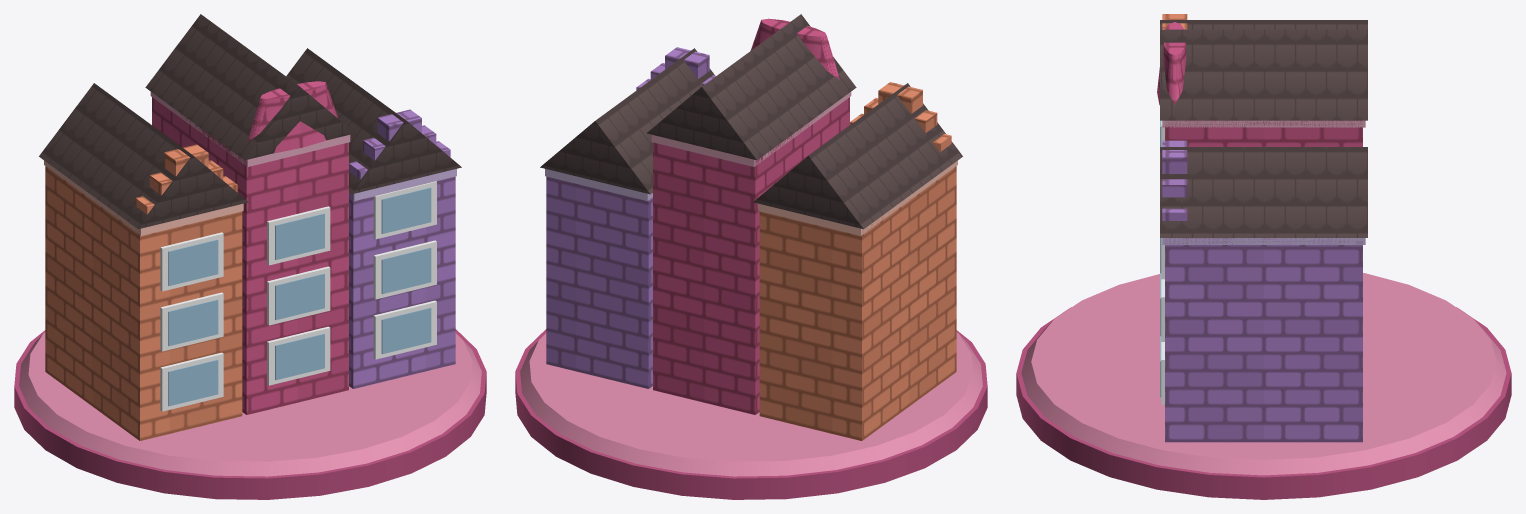
The model's file is tier-10-townhouse-row.glb.
3 renders of one model, left to right at view 1: azimuth 30°, elevation 25°; view 2: azimuth 150°, elevation 25°; view 3: azimuth 270°, elevation 25°, orthographic. The views are drawn at different scales.
Visible parts, largest first — view 1: brick, matte, roof, gloss; view 2: brick, matte, roof; view 3: matte, brick, roof.
Part boxes in pixels (x1,y1,x2,y2): brick: (45,81,455,440); matte: (14,92,486,499); roof: (39,14,461,229); gloss: (168,187,431,406); brick: (546,18,956,440); matte: (515,92,987,499); roof: (540,14,962,229); matte: (1016,120,1511,499); brick: (1157,14,1362,442); roof: (1160,20,1367,237).
Size of the model in its own units: 1 by 0.815 by 1.
Materials: 4 (2 with a texture image).
